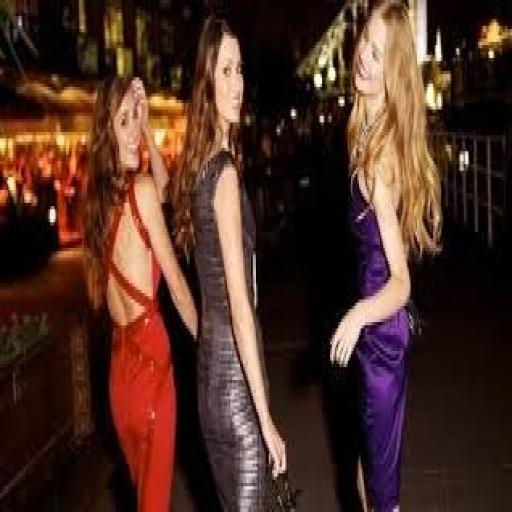dancing: (325, 0, 446, 509), (172, 10, 293, 508), (80, 68, 202, 508)
